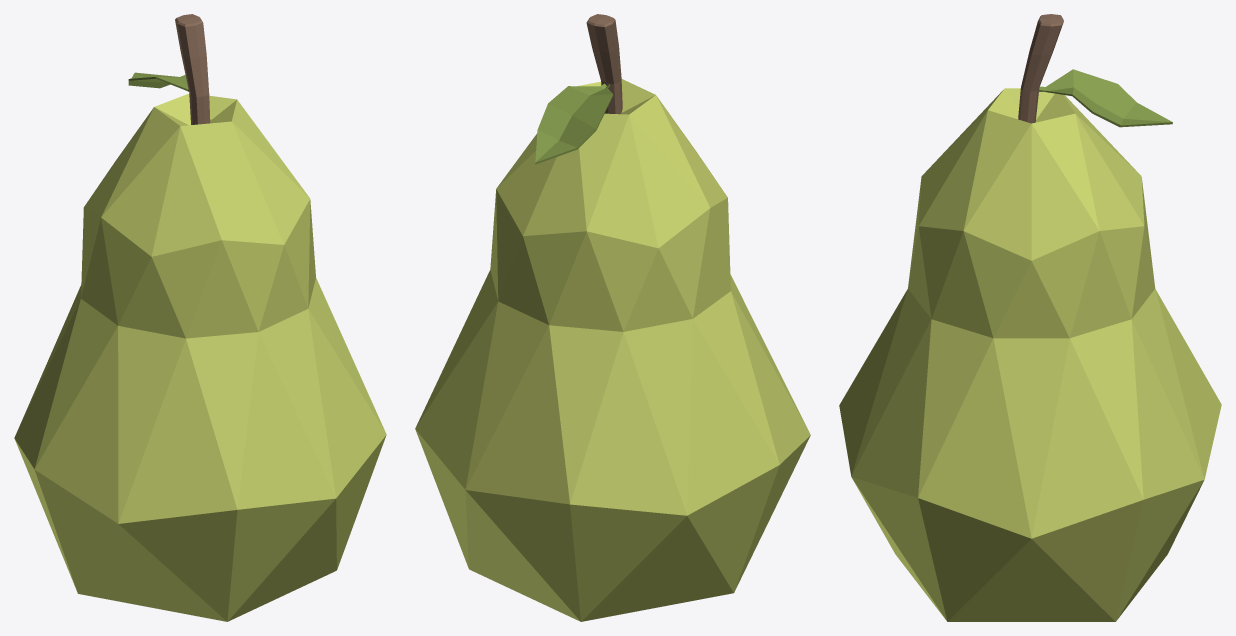
The model's file is Pear_01.fbx.
3 views of the same model, side by side, from view 1: azimuth 30°, elevation 25°; view 2: azimuth 150°, elevation 25°; view 3: azimuth 270°, elevation 25° (orthographic). The views are drawn at different scales.
Visible parts, largest first — view 1: Pear_01; view 2: Pear_01; view 3: Pear_01.
Part boxes in pixels (x1,y1,x2,y2): Pear_01: (14, 14, 386, 621); Pear_01: (415, 14, 810, 621); Pear_01: (839, 14, 1221, 621).
Size of the model in its own units: 7.56 by 12.35 by 7.26.
